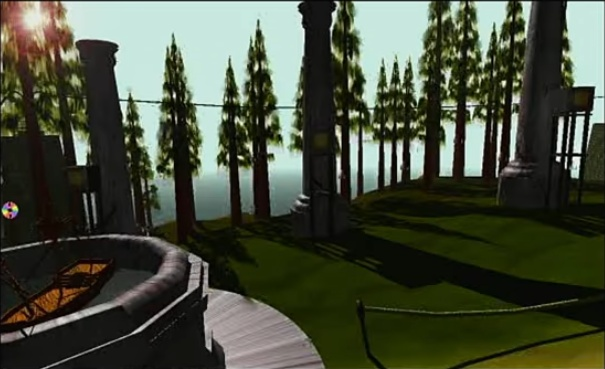Waiting: (0, 199, 21, 220)
